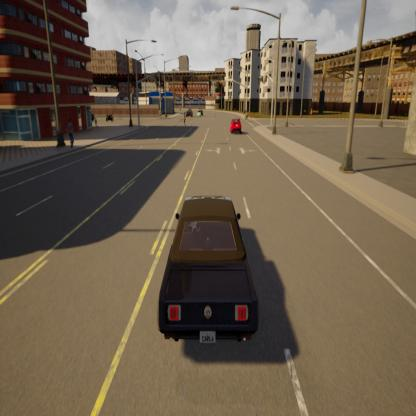Cars: (143, 173, 271, 347), (226, 111, 249, 140), (104, 111, 120, 125), (186, 104, 194, 120), (197, 105, 204, 121)
Pedestrian: (68, 113, 76, 149), (182, 108, 188, 130), (157, 104, 162, 123), (94, 115, 99, 132)
